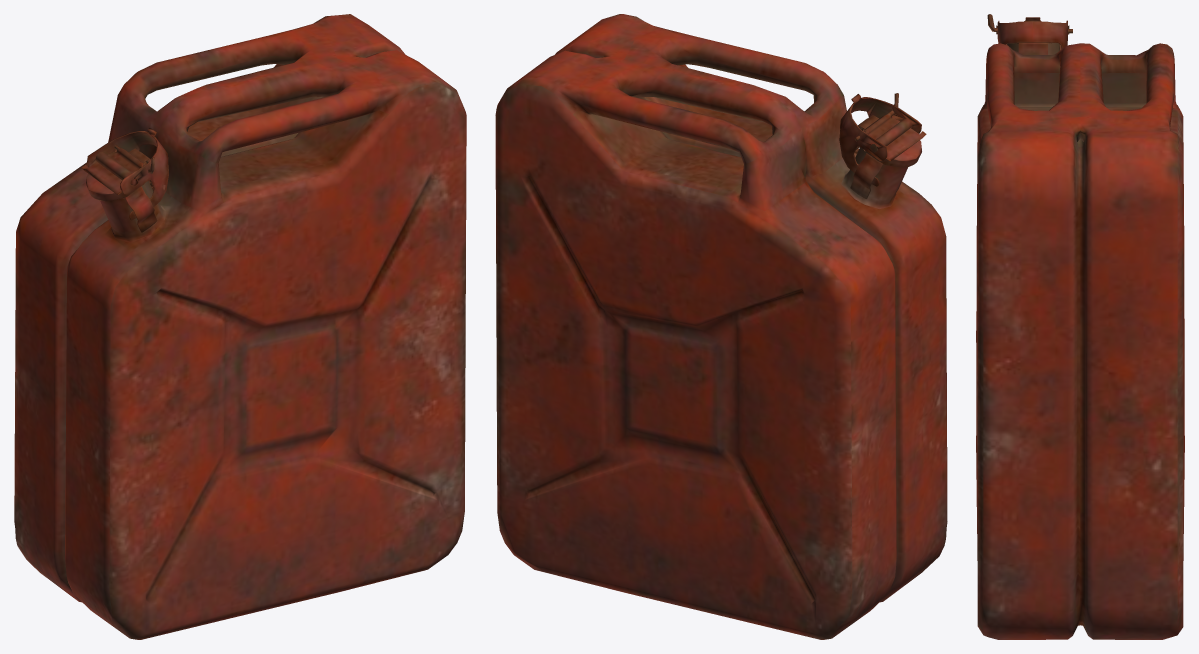
The model's file is metal_jerrycan.glb.
3 renders of one model, left to right at view 1: azimuth 30°, elevation 25°; view 2: azimuth 150°, elevation 25°; view 3: azimuth 270°, elevation 25°, orthographic. The views are drawn at different scales.
Parts seen in each view (by area): view 1: metal_jerrycan; view 2: metal_jerrycan; view 3: metal_jerrycan.
Boxes of the visible parts, <box> form: metal_jerrycan: <box>14,14,466,639</box>; metal_jerrycan: <box>495,14,947,639</box>; metal_jerrycan: <box>976,14,1184,639</box>.
Bounding box in the file's own units: 0.3503 × 0.455 × 0.1717.
Materials: 1 (1 with a texture image).
